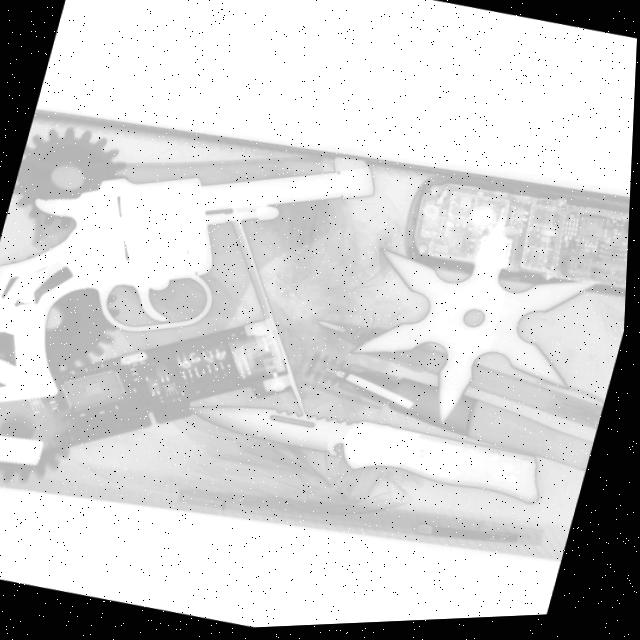knife: (183, 373, 559, 524)
pistol: (0, 85, 387, 476)
